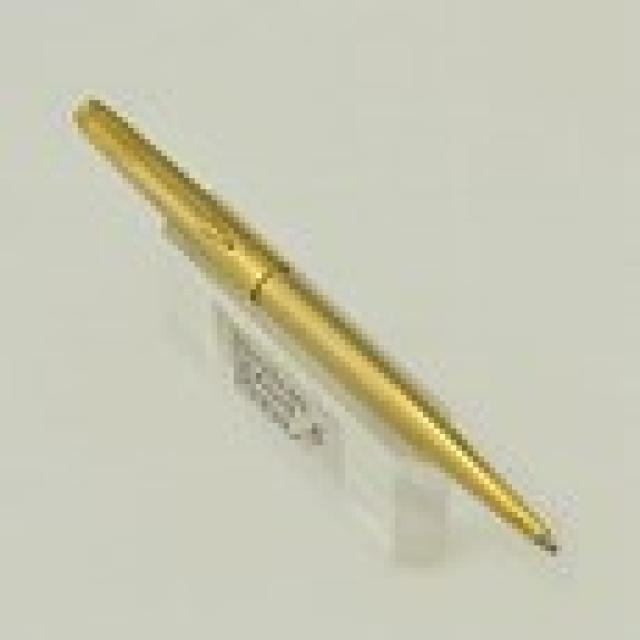pen: (69, 91, 561, 555)
